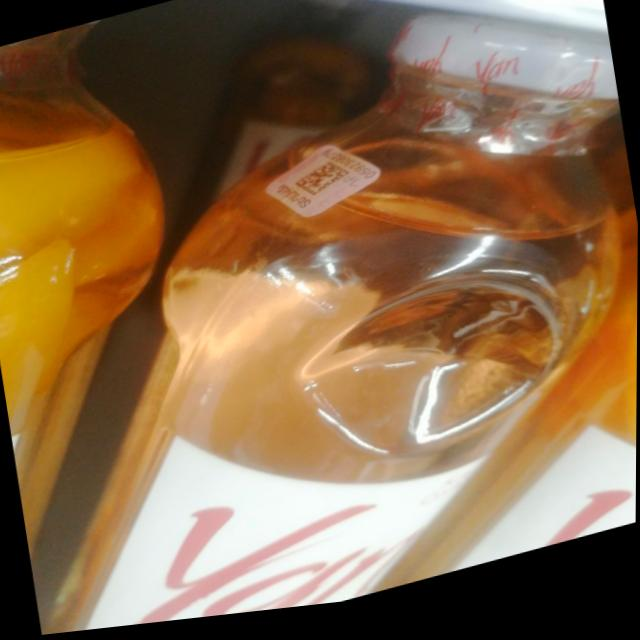datamatrix: (294, 164, 354, 209)
